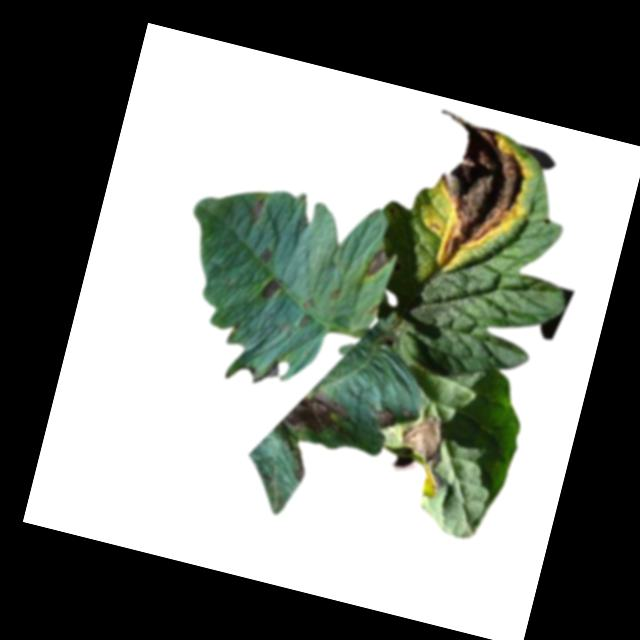Early_blight: (401, 105, 535, 282), (263, 376, 353, 491), (386, 405, 456, 503), (361, 244, 395, 283), (368, 402, 397, 432), (257, 273, 283, 301), (245, 194, 267, 227), (253, 243, 276, 266), (299, 311, 315, 326)
